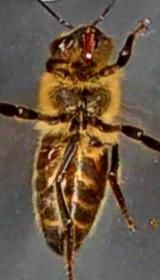varroa_mite: (33, 139, 61, 166)
